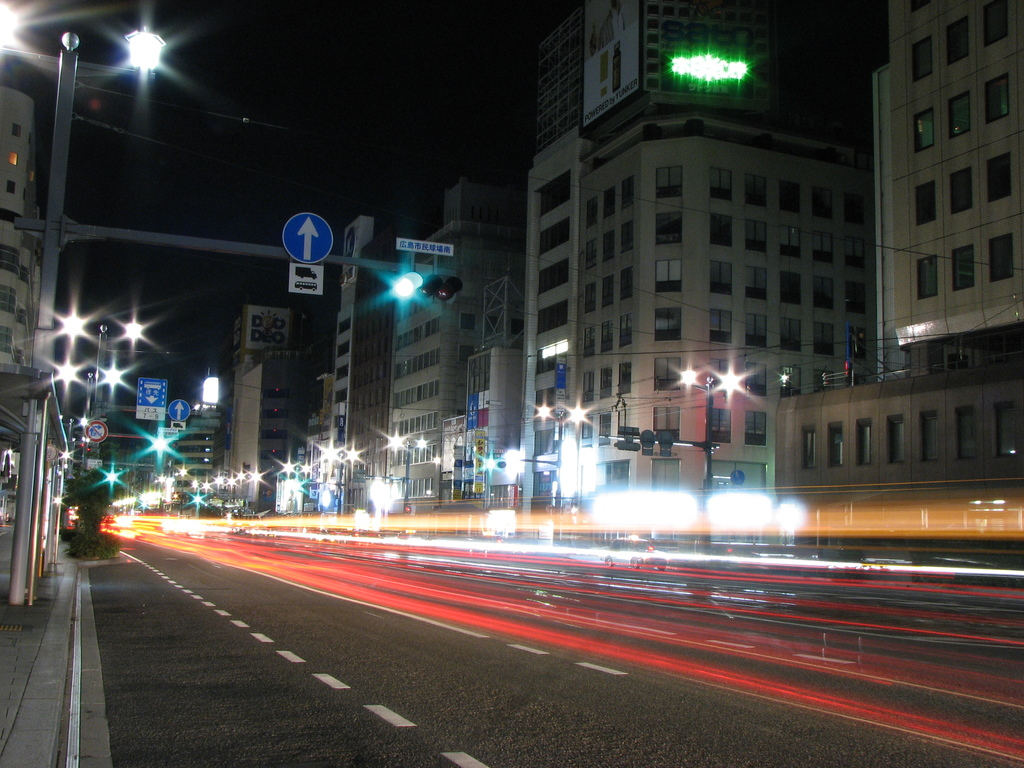green_light: (728, 55, 750, 81), (711, 53, 730, 82), (688, 53, 709, 77), (671, 53, 690, 77), (393, 276, 412, 296)
no_right_turn: (86, 420, 107, 440)
straight: (283, 213, 335, 264), (167, 398, 190, 421)
